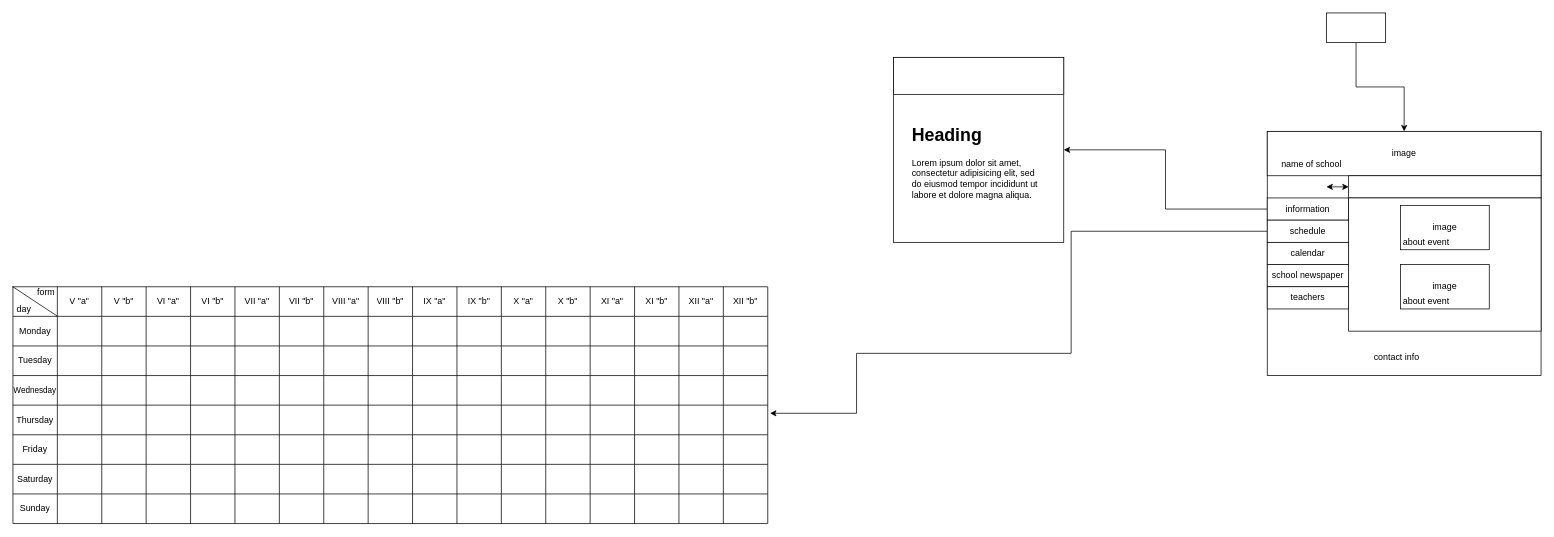
Image size: 1554x537. Some labels were removed from this diagram. The centre of each missing label's shape, as x and y in pixels:
"events" goes at pixel 1444 186.
"history of school" goes at pixel 978 75.
"main" goes at pixel 1356 27.
